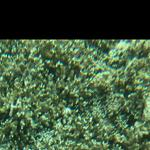alive: (3, 40, 148, 147)
